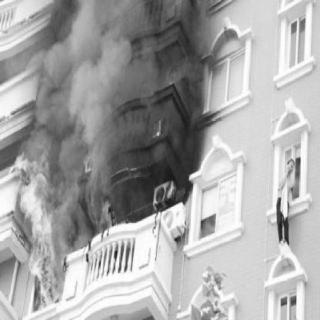Fire: (14, 131, 66, 311)
